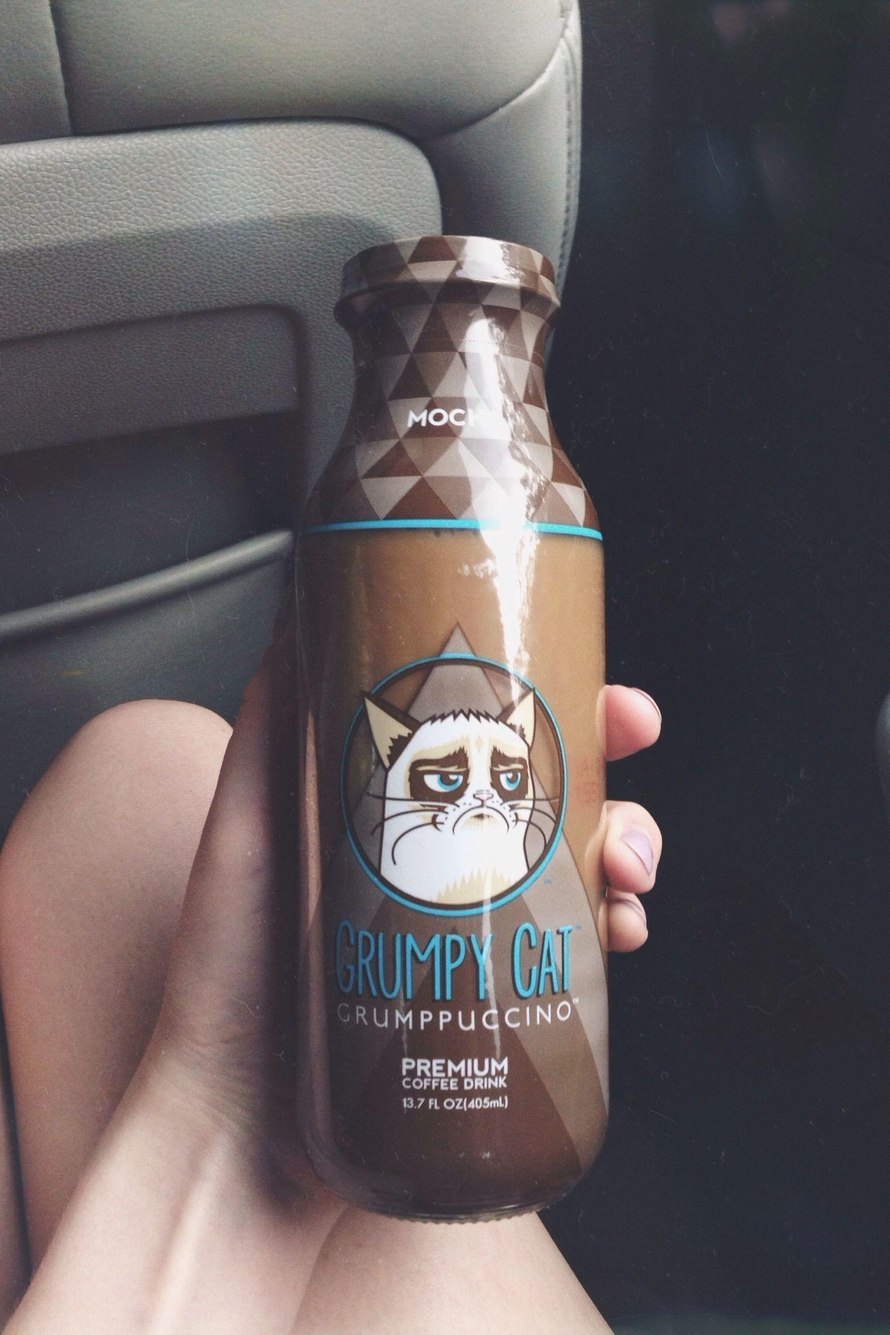gym bottle: (289, 224, 618, 1226)
